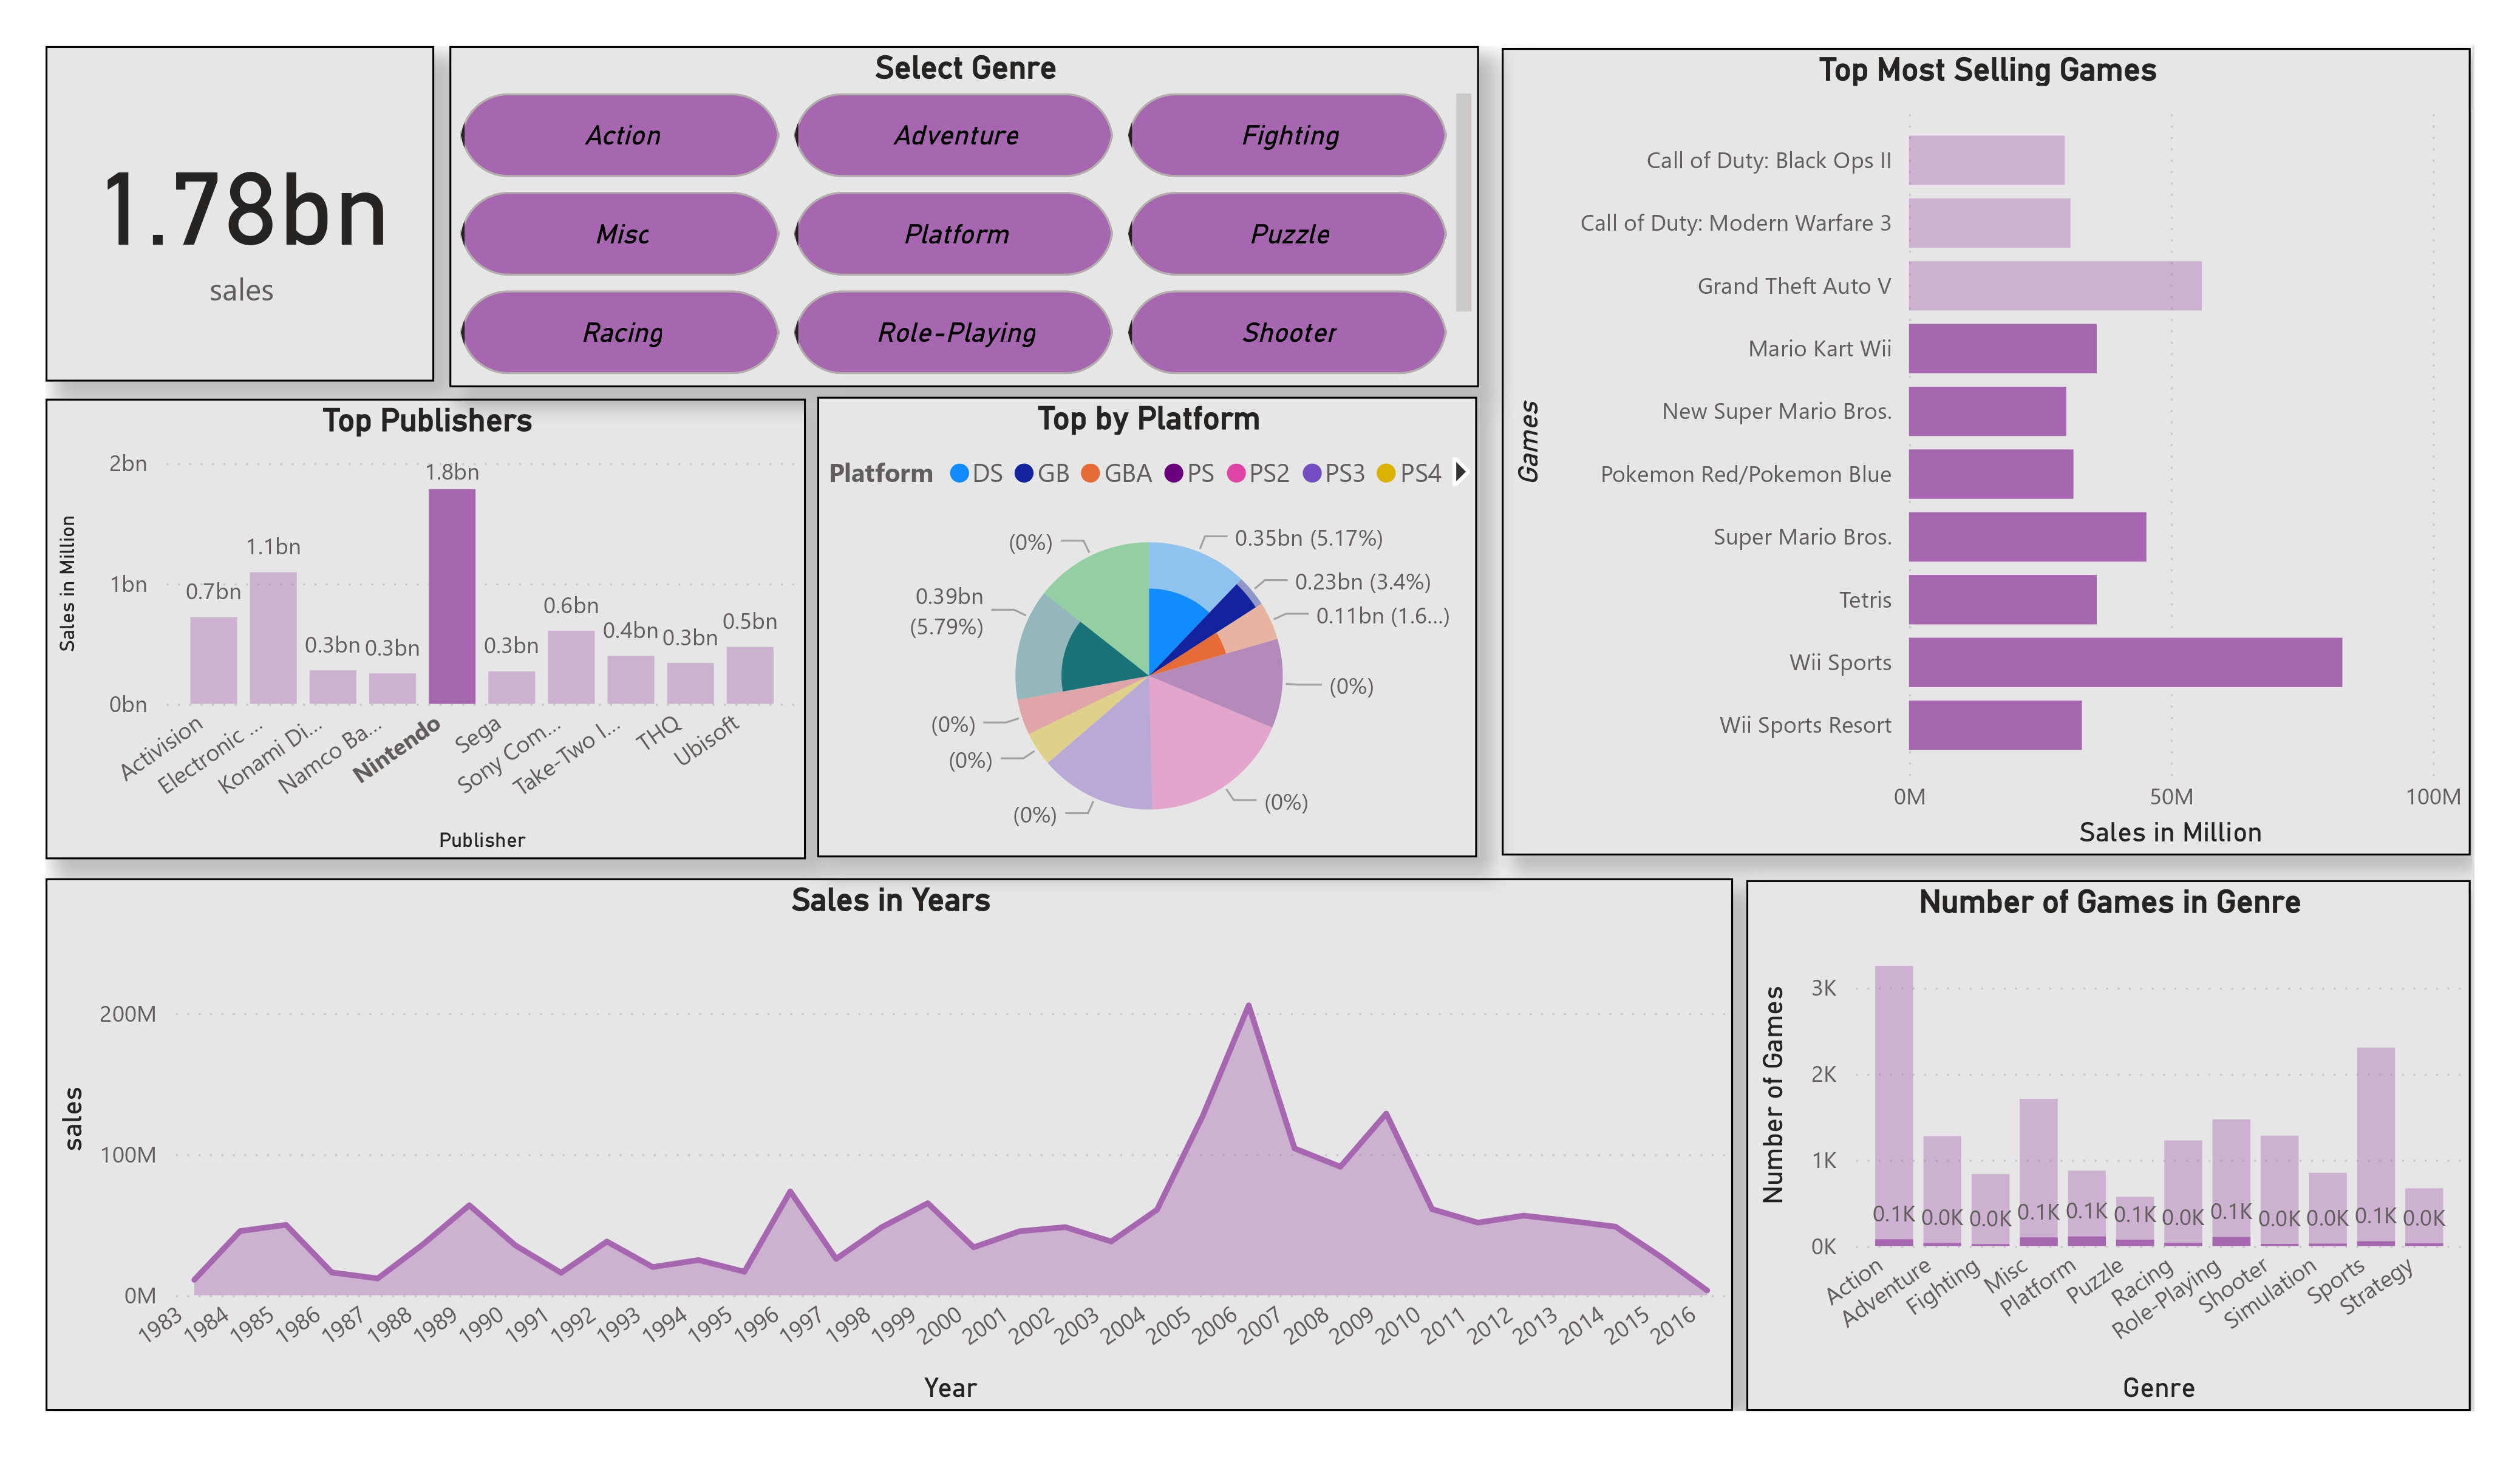

Layout of this report page (visuals, bound fields, positions):
{"tool":"powerbi","page":{"name":"Page 1","canvas":[1280,720],"ordinal":0},"visuals":[{"type":"barChart","title":"Top Most Selling Games","fields":{"Category":["vgsales.Name"],"Y":["vgsales.sales"]},"box":[767.9,1.1,511.6,426.1],"z":0},{"type":"card","fields":{"Values":["vgsales.sales"]},"box":[0,0,204.6,177.5],"z":1000},{"type":"columnChart","title":"Top Publishers","fields":{"Category":["vgsales.Publisher"],"Y":["vgsales.sales"]},"box":[0,186.3,401.3,243],"z":2000},{"type":"areaChart","title":"Sales in Years","fields":{"Category":["vgsales.Year"],"Y":["vgsales.sales"]},"box":[0,438.6,889.5,281.4],"z":3000},{"type":"advancedSlicerVisual","title":"Select Genre","fields":{"Values":["vgsales.Genre"]},"box":[212.9,0,543.2,179.7],"z":4000},{"type":"pieChart","title":"Top by Platform","fields":{"Category":["vgsales.Platform"],"Y":["vgsales.sales"]},"box":[406.7,185.1,348.1,243],"z":5000},{"type":"columnChart","title":"Number of Games in  Genre","fields":{"Category":["vgsales.Genre"],"Y":["CountNonNull(vgsales.Name)"]},"box":[897.5,440.4,382,279.6],"z":6000}]}

Visuals, with their boxes on the page's 1280x720 design canvas (x1, y1, x2, y2). These are canvas units, not pixel positions in the 2520x1457 screenshot, which may show the page scaled, cropped or inside an application window:
"Top Most Selling Games" barChart: box=[768, 1, 1280, 427]
card - vgsales.sales: box=[0, 0, 205, 178]
"Top Publishers" columnChart: box=[0, 186, 401, 429]
"Sales in Years" areaChart: box=[0, 439, 890, 720]
"Select Genre" advancedSlicerVisual: box=[213, 0, 756, 180]
"Top by Platform" pieChart: box=[407, 185, 755, 428]
"Number of Games in  Genre" columnChart: box=[898, 440, 1280, 720]
